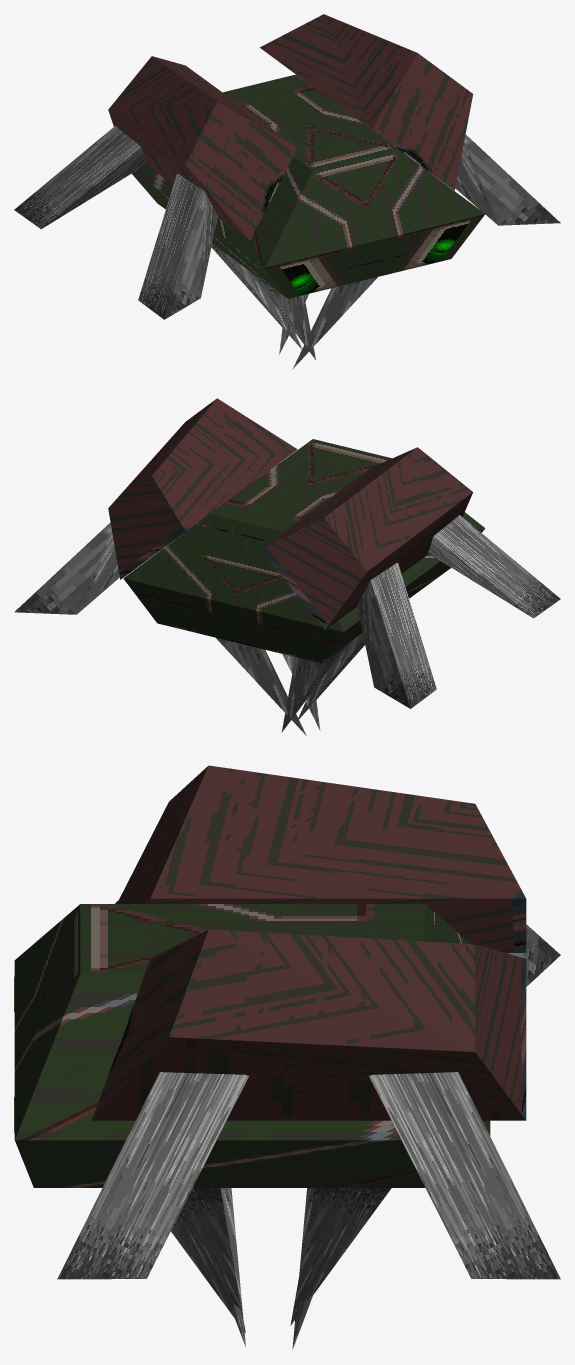
Rendered from model_000_building_reactor.glb.
3 views of the same model, one above another, from view 1: azimuth 30°, elevation 25°; view 2: azimuth 150°, elevation 25°; view 3: azimuth 270°, elevation 25° (orthographic). The views are drawn at different scales.
Visible parts, largest first — view 1: model_087; view 2: model_087; view 3: model_087.
Part boxes in pixels (x1=…): model_087: x1=14, y1=14, x2=560, y2=369; model_087: x1=14, y1=398, x2=560, y2=735; model_087: x1=14, y1=765, x2=560, y2=1349.
Bounding box in the file's own units: 10 × 7.16 × 7.13.
5 materials, 5 textured.
